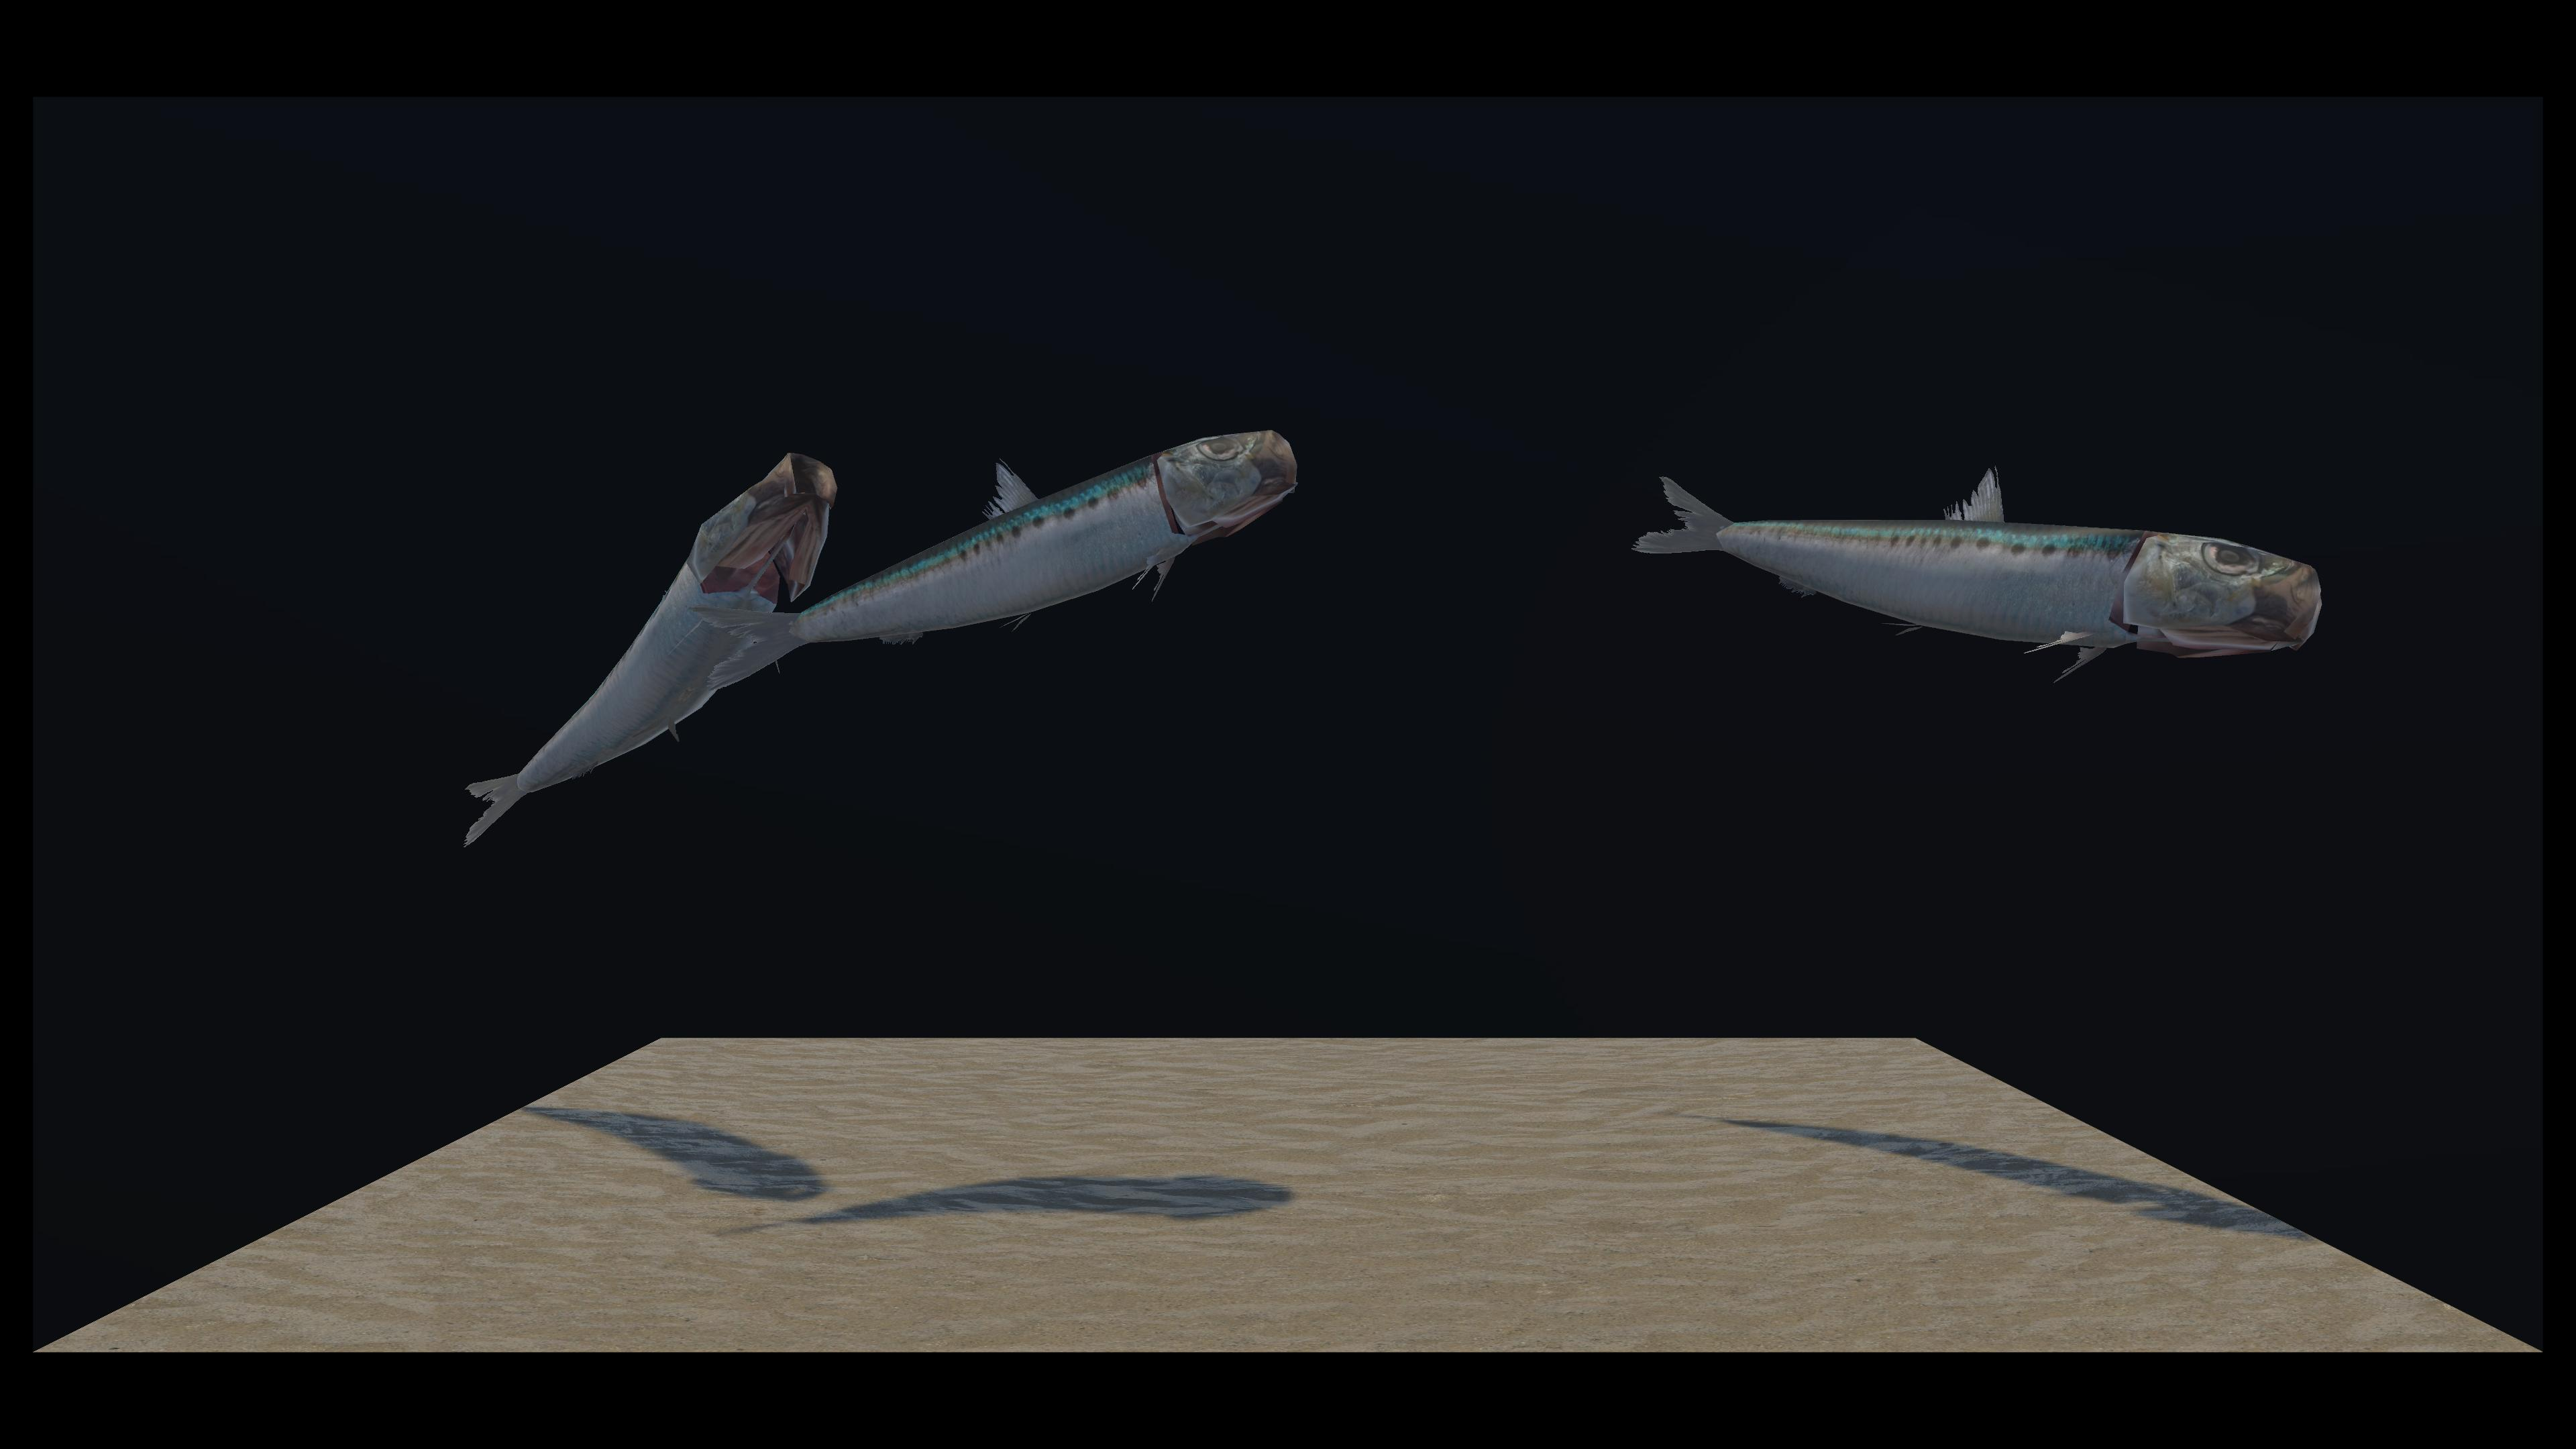Sardine_Front: (975, 439, 2307, 686), (472, 458, 948, 844), (692, 432, 1267, 692)
